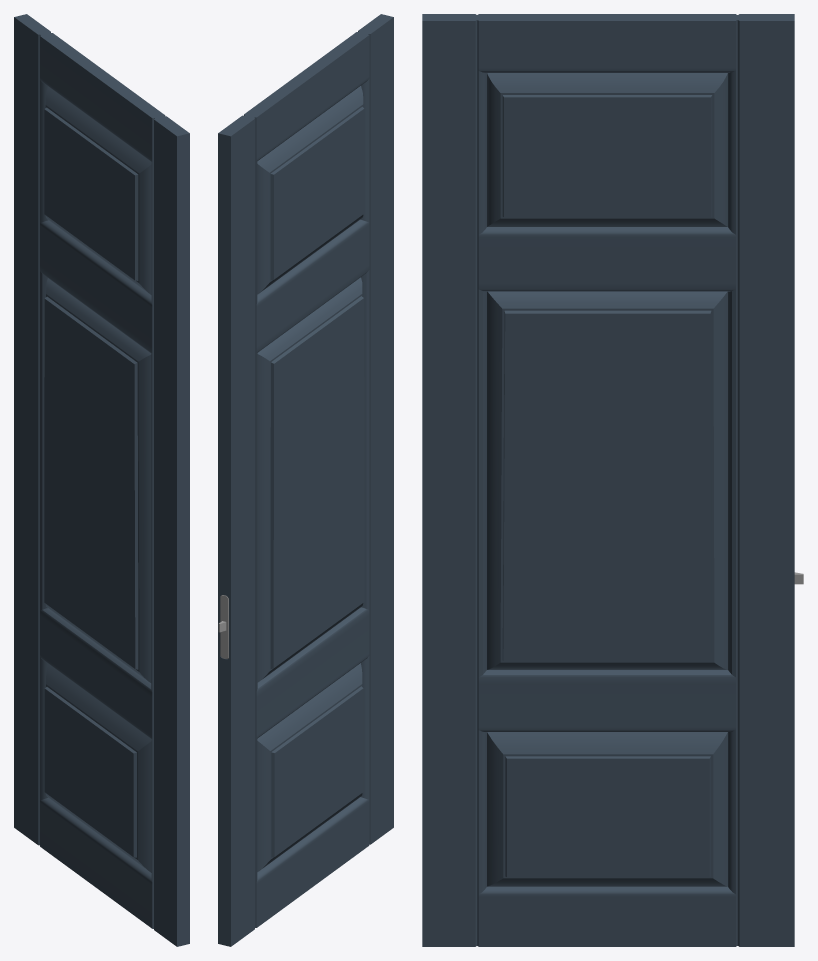
Rendered from 75_DALLAS_Door.glb.
3 renders of one model, left to right at view 1: azimuth 30°, elevation 25°; view 2: azimuth 150°, elevation 25°; view 3: azimuth 270°, elevation 25°, orthographic. The views are drawn at different scales.
Visible parts, largest first — view 1: 75_DALLAS_Door; view 2: 75_DALLAS_Door; view 3: 75_DALLAS_Door.
Part boxes in pixels (<box>): 75_DALLAS_Door: <box>14,14,189,946</box>; 75_DALLAS_Door: <box>218,14,393,946</box>; 75_DALLAS_Door: <box>422,14,803,946</box>.
Size of the model in its own units: 0.0736 by 2.2 by 0.8192.
